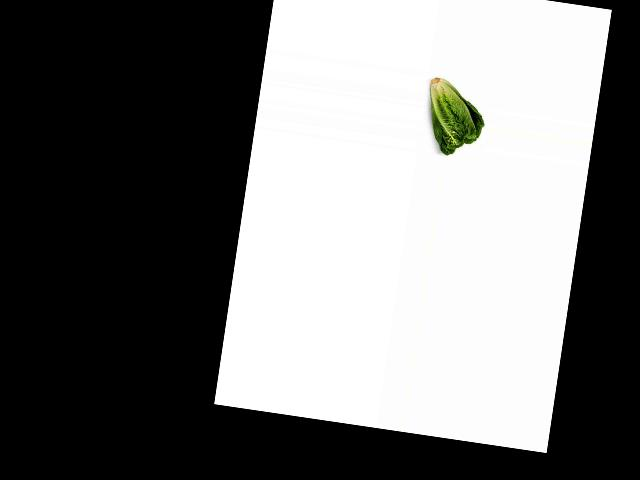lettuce: (418, 71, 489, 159)
